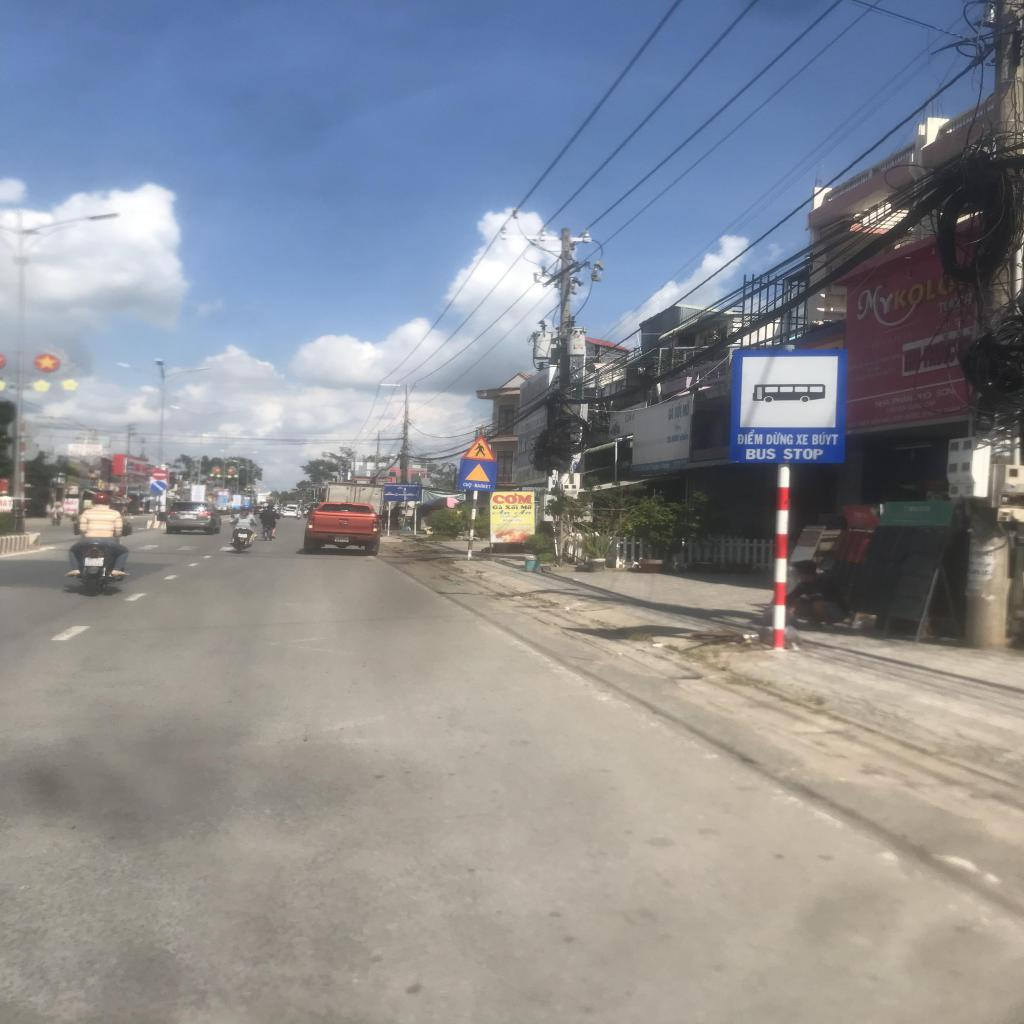cam_xe_di_nguoc_chieu: (152, 468, 168, 480)
cho: (457, 458, 499, 492)
chu_y_nguoi_di_bo_cat_ngang: (462, 433, 498, 462)
huong_phai_di_vuot_chuong_ngai_vat_phai: (151, 481, 167, 492)
khac: (729, 348, 848, 464), (384, 483, 422, 501)
